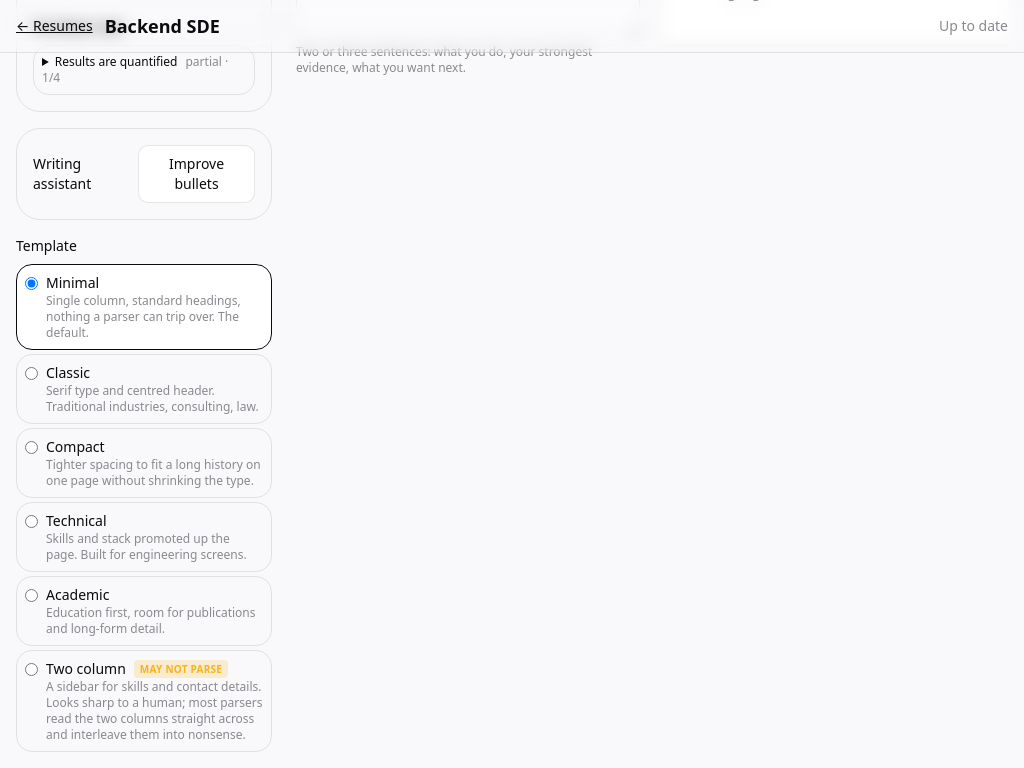
Test case: templates › re-renders the preview in the chosen template
(page scrolled)
Check: the heading "Backend SDE" is shown, box [105, 12, 220, 40]
Click the radio button labelled "Two column".
click(32, 670)  # box [25, 663, 38, 676]
(page scrolled)
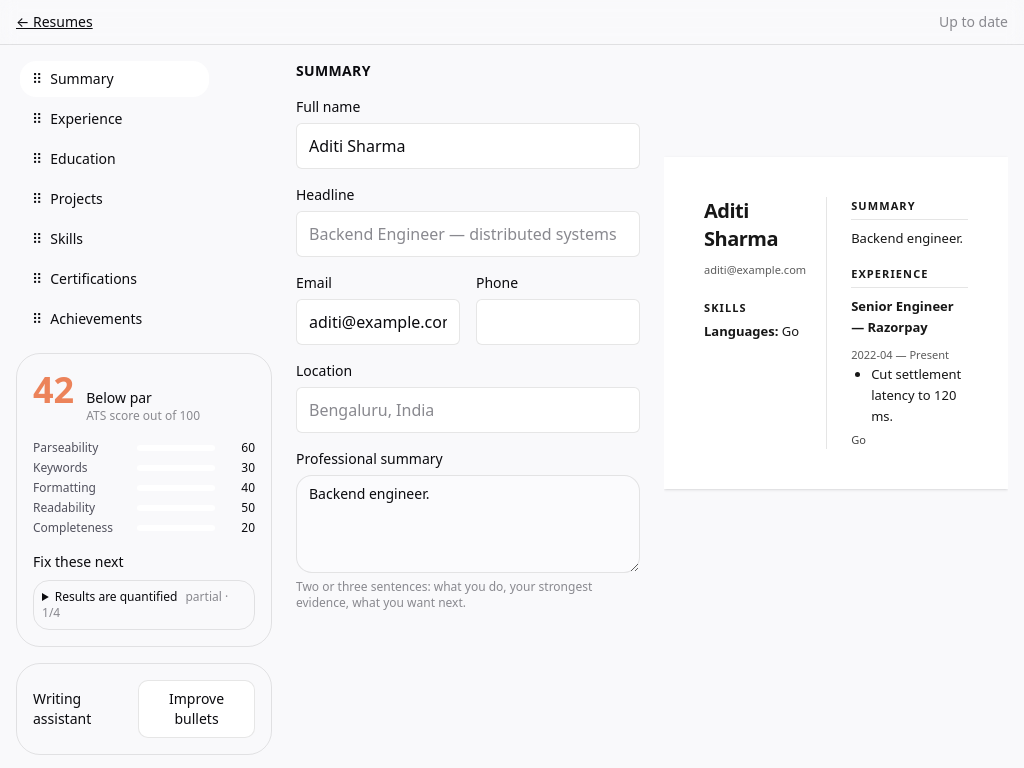
Check: the element showing "Aditi Sharma aditi@example.com Skills Languages: Go" is shown, box [704, 197, 827, 449]
